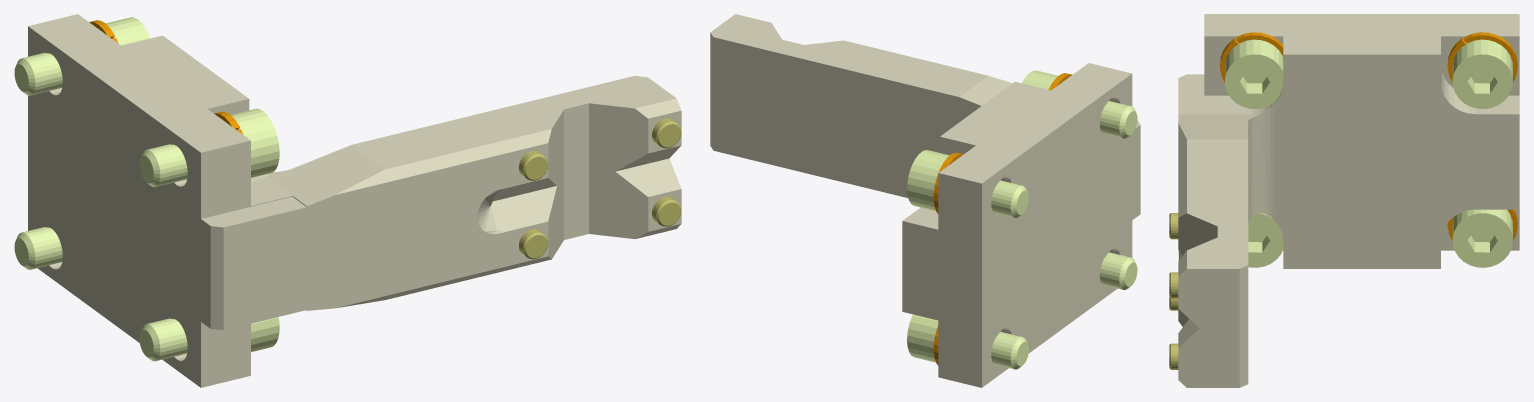
File: ER9_Gripper_LC.dae
3 views of the same model, side by side, from view 1: azimuth 30°, elevation 25°; view 2: azimuth 150°, elevation 25°; view 3: azimuth 270°, elevation 25° (orthographic). The views are drawn at different scales.
Visible parts, largest first — view 1: node29; view 2: node29; view 3: node29.
Boxes of the visible parts, x1,y1,x2,y2 form: node29: (14, 14, 681, 387); node29: (710, 14, 1140, 387); node29: (1169, 14, 1519, 387).
Size of the model in its own units: 0.0592 by 0.04 by 0.028.
